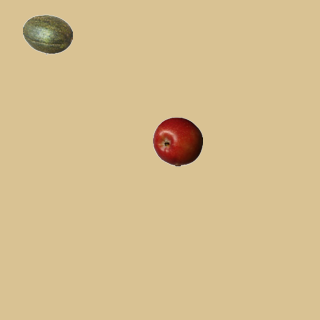Apple Braeburn: (152, 116, 202, 166)
Melon Piel de Sapo: (22, 9, 72, 59)
